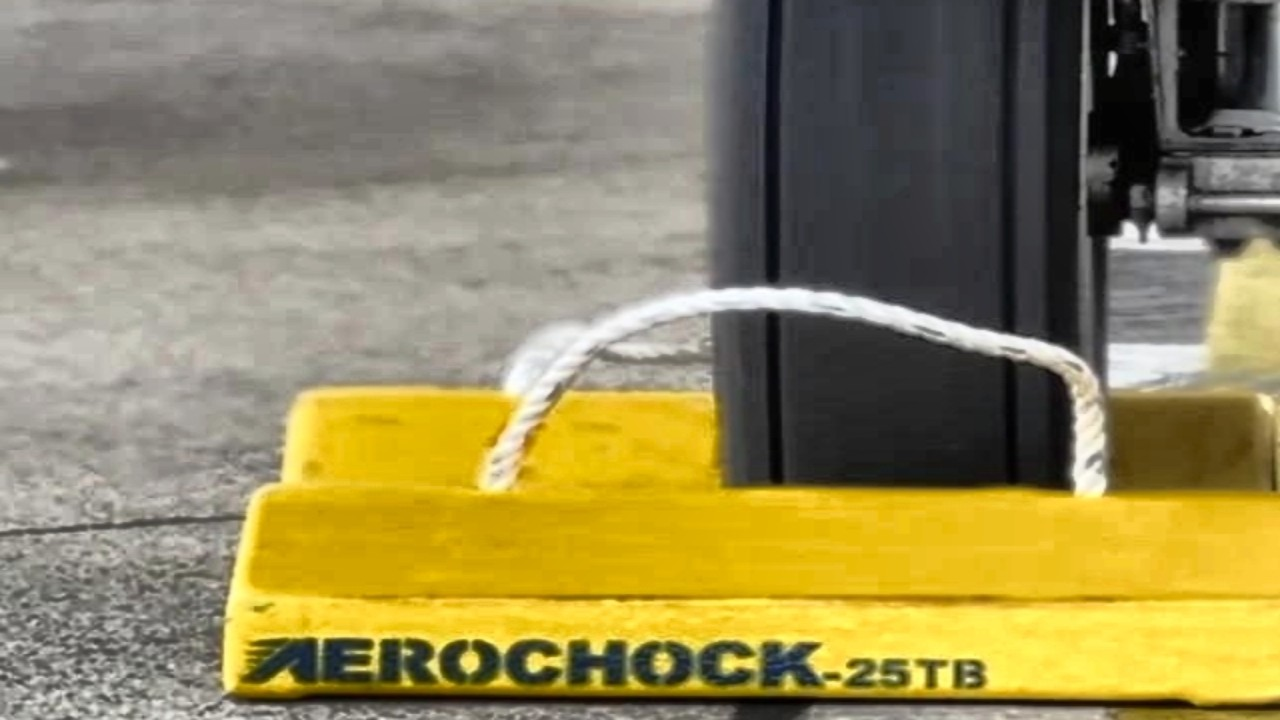chock: (222, 482, 1280, 712), (272, 379, 1280, 496)
wheel: (722, 0, 1106, 484)
